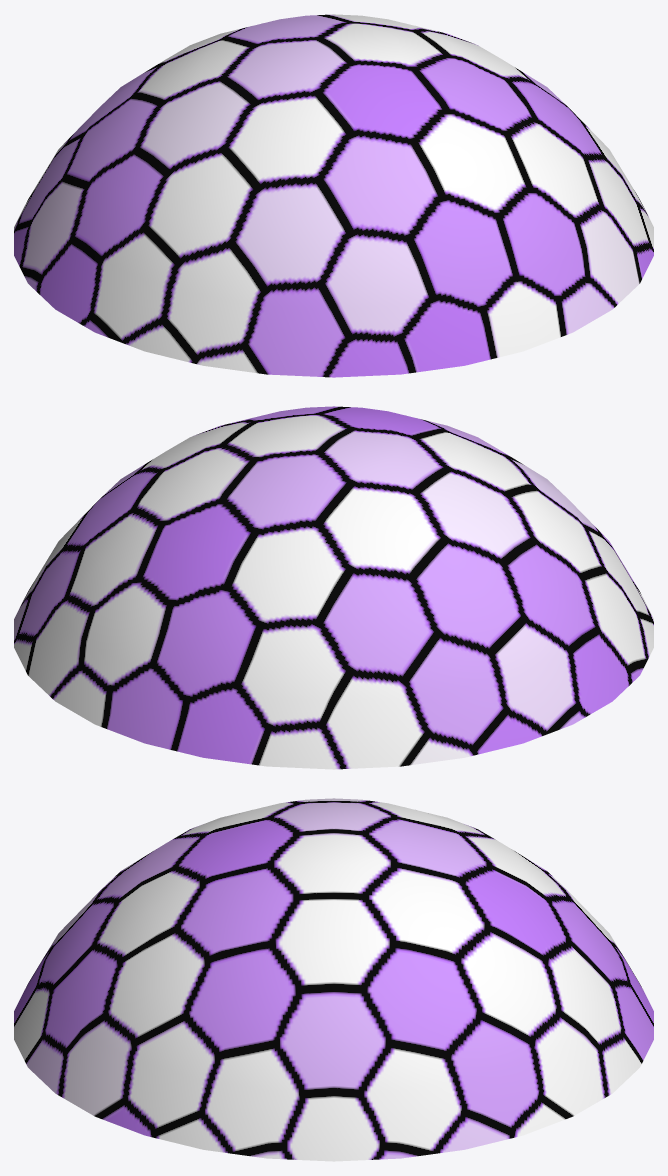
The model's file is shield 1.fbx.
3 views of the same model, one above another, from view 1: azimuth 30°, elevation 25°; view 2: azimuth 150°, elevation 25°; view 3: azimuth 270°, elevation 25° (orthographic).
Parts seen in each view (by area): view 1: pSphere1; view 2: pSphere1; view 3: pSphere1.
Part boxes in pixels (x1,y1,x2,y2): pSphere1: [14, 14, 653, 377]; pSphere1: [14, 406, 653, 769]; pSphere1: [14, 798, 653, 1161].
Bounding box in the file's own units: 1.85 × 0.6173 × 1.84.
